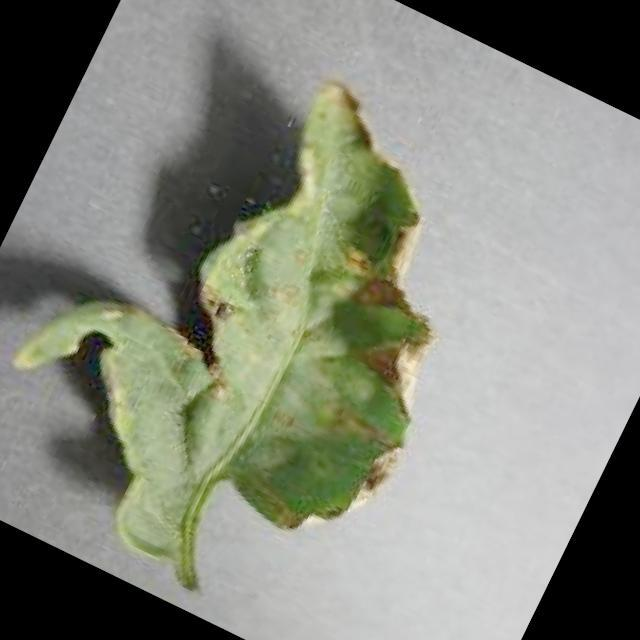Tomato bacterial spot leaf: (0, 0, 546, 640)
